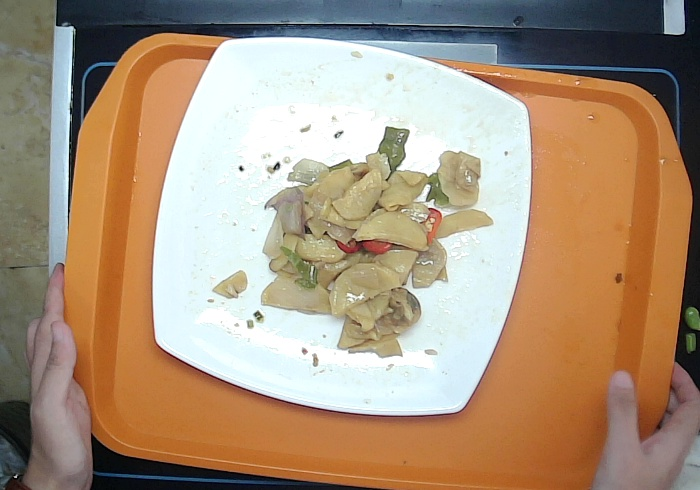ZNLD-Bai_Fang_Pan: (148, 34, 537, 420)
